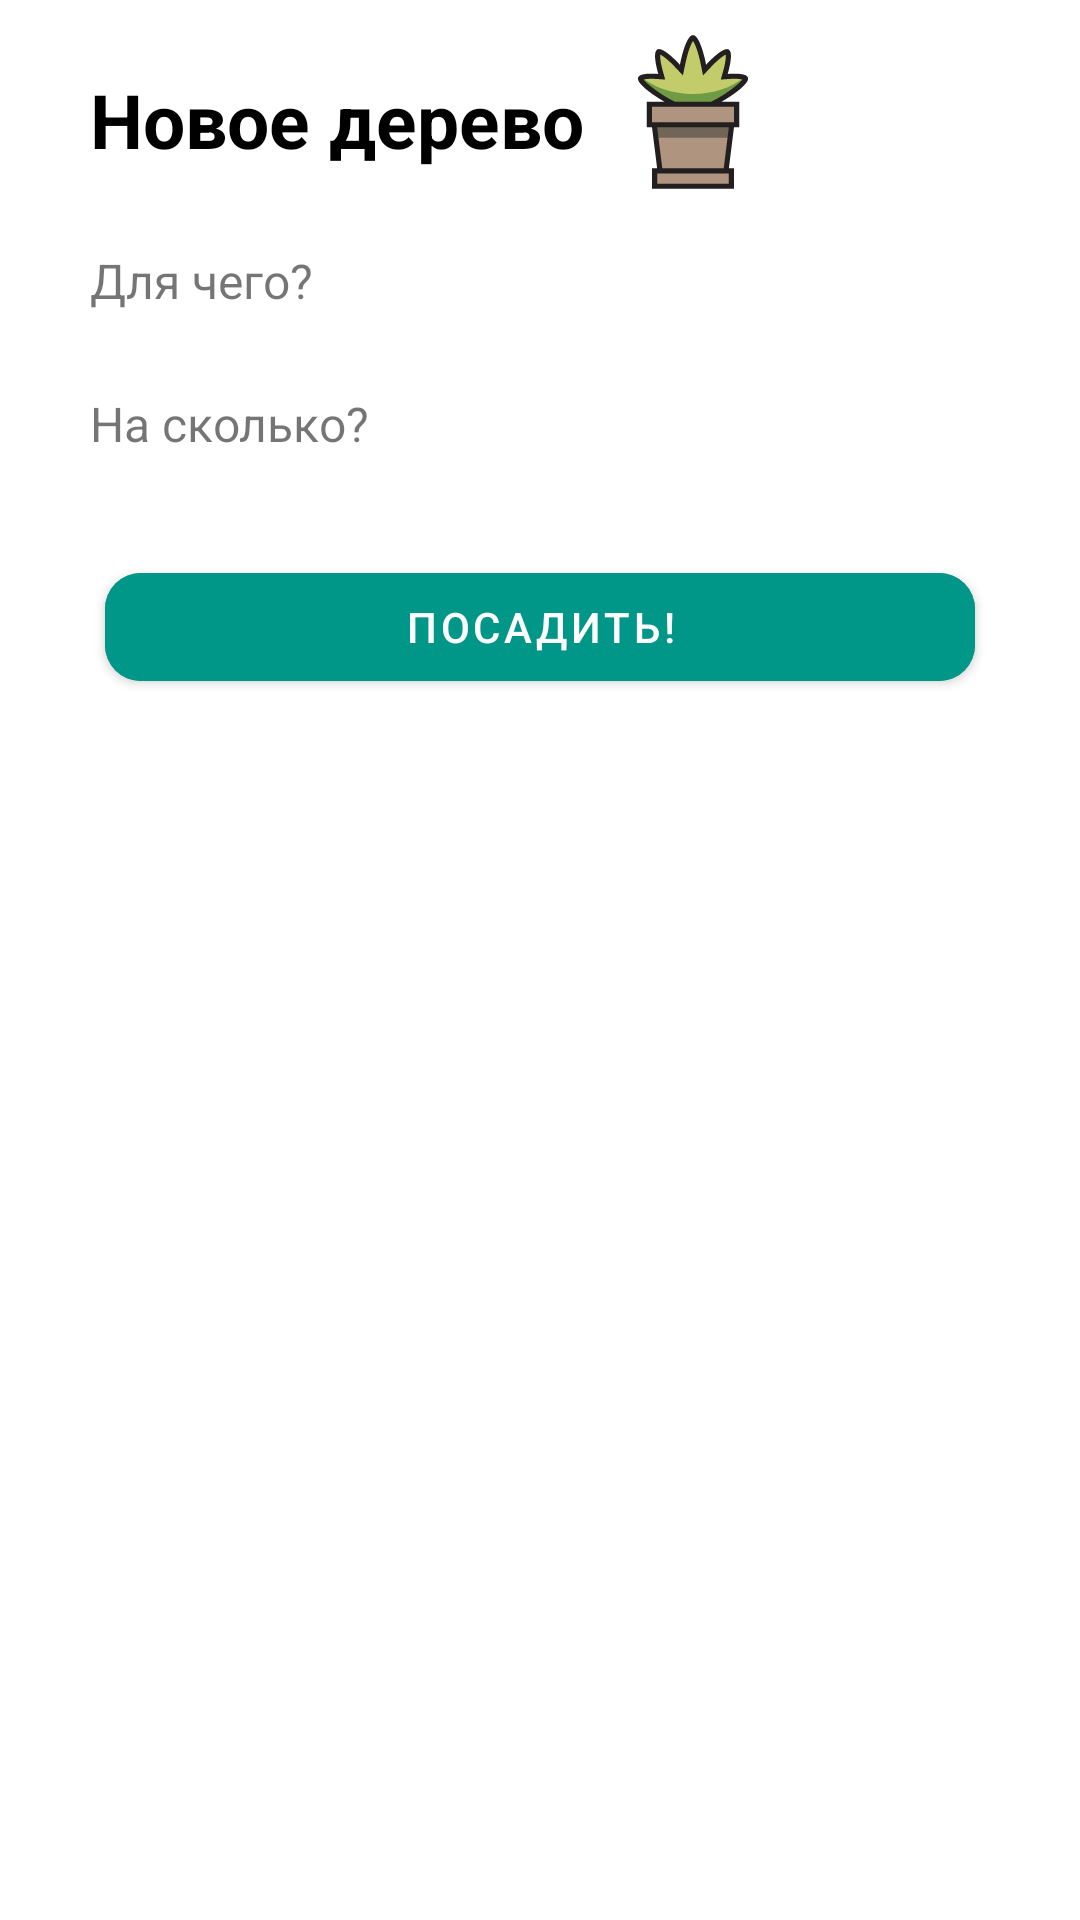

Icon bounding boxes for this 1080x1920 phone screenshot, format (x1, y1, x2, y2):
plant sheet: (638, 35, 748, 189)
